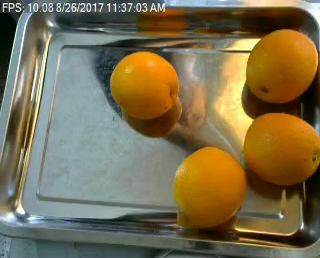Orange: (172, 145, 245, 226), (244, 112, 319, 185), (244, 28, 317, 102), (110, 50, 177, 118)
